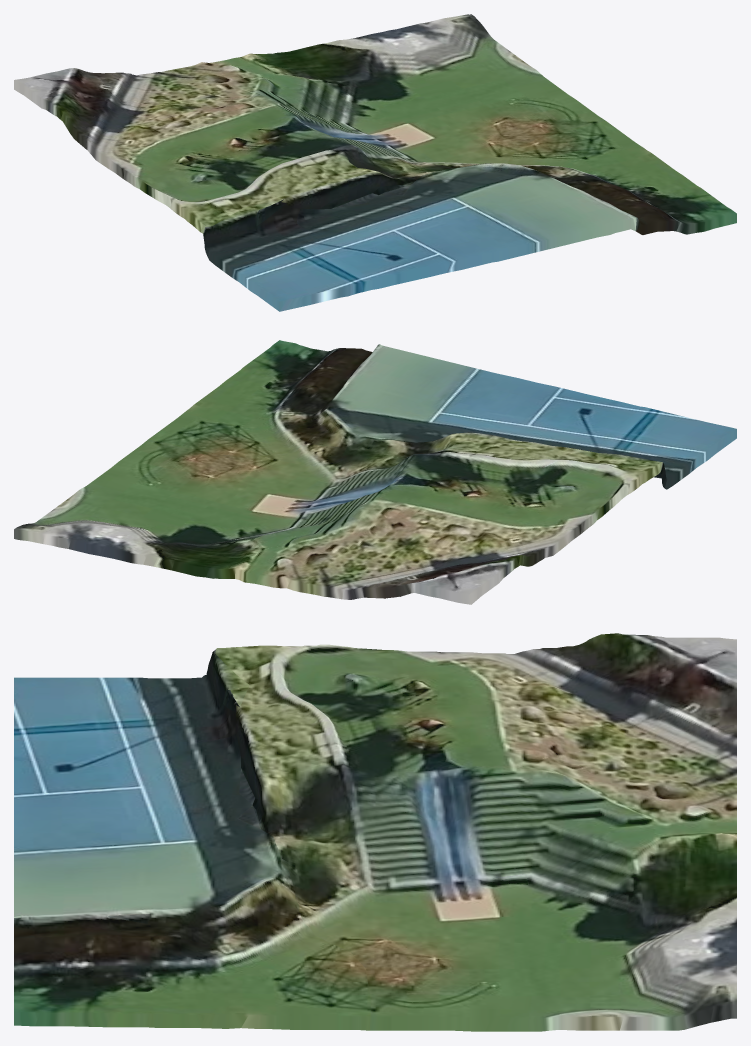
File: z20-167735-405195-h0-yup-uvflip-v3-world.glb
3 renders of one model, top to bottom at view 1: azimuth 30°, elevation 25°; view 2: azimuth 150°, elevation 25°; view 3: azimuth 270°, elevation 25°, orthographic. The views are drawn at different scales.
Bounding box in the file's own units: 30.16 × 4.36 × 30.32.
1 material, 1 textured.
